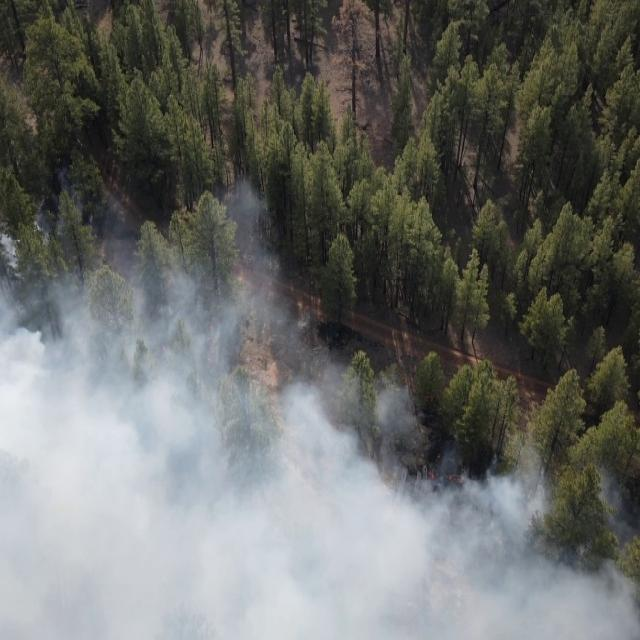fire: (426, 468, 465, 484)
smoke: (0, 227, 290, 640), (290, 456, 638, 640), (290, 363, 428, 456), (36, 182, 130, 228), (213, 181, 274, 228)
